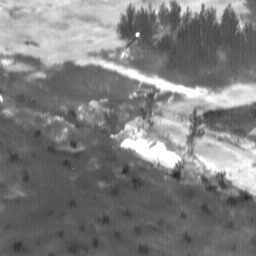aircraft: (136, 34, 138, 36)
